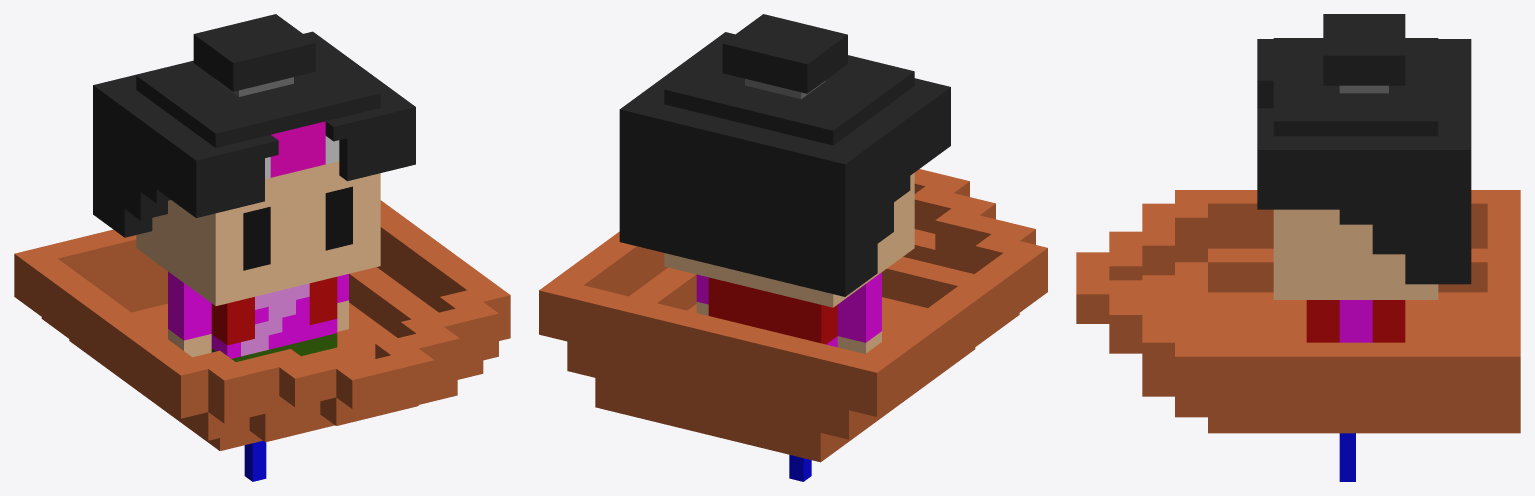
File: momo_boat.glb
3 views of the same model, side by side, from view 1: azimuth 30°, elevation 25°; view 2: azimuth 150°, elevation 25°; view 3: azimuth 270°, elevation 25° (orthographic). The views are drawn at different scales.
Visible parts, largest first — view 1: Node; view 2: Node; view 3: Node.
Boxes of the visible parts, bbox=[...] form: Node: bbox=[14, 14, 510, 481]; Node: bbox=[539, 14, 1047, 481]; Node: bbox=[1076, 14, 1520, 481].
Bounding box in the file's own units: 2.4 × 3 × 2.7.
Materials: 1 (1 with a texture image).
